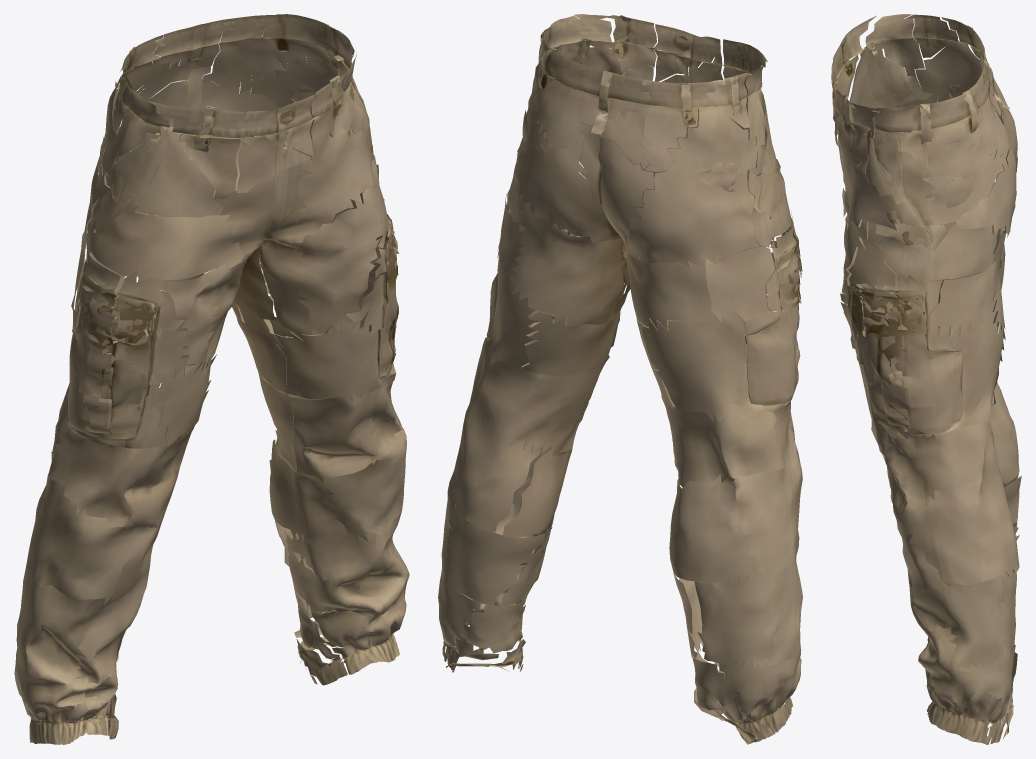
Rendered from dante.mobile.glb.
The picture shows the model from 3 angles, left to right: view 1: azimuth 30°, elevation 25°; view 2: azimuth 150°, elevation 25°; view 3: azimuth 270°, elevation 25°; orthographic projection. The views are drawn at different scales.
Visible parts, largest first — view 1: geometry_0; view 2: geometry_0; view 3: geometry_0.
Part boxes in pixels (x1,y1,x2,y2): geometry_0: (14, 14, 409, 744); geometry_0: (438, 14, 802, 744); geometry_0: (831, 14, 1021, 744).
Size of the model in its own units: 0.5677 by 0.9675 by 0.2719.
1 material, 1 textured.
